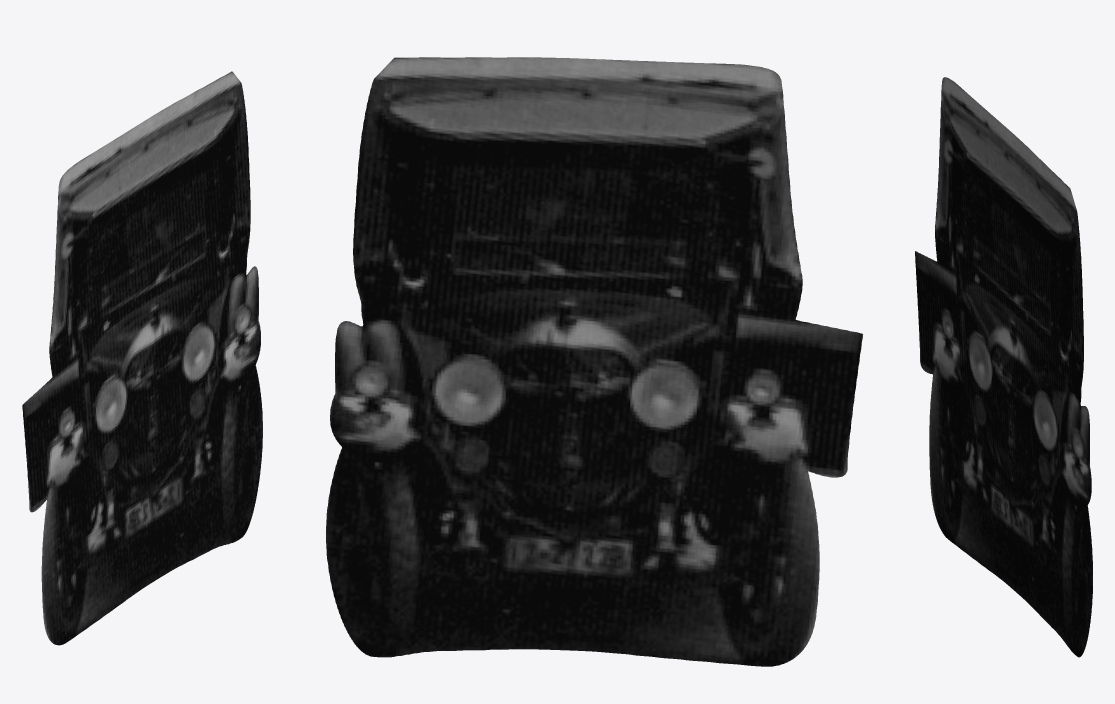
The model's file is Old_car.FBX.
3 renders of one model, left to right at view 1: azimuth 30°, elevation 25°; view 2: azimuth 150°, elevation 25°; view 3: azimuth 270°, elevation 25°, orthographic. The views are drawn at different scales.
Parts seen in each view (by area): view 1: car_AM; view 2: car_AM; view 3: car_AM.
Boxes of the visible parts, x1=… form: car_AM: x1=22, y1=71, x2=262, y2=645; car_AM: x1=326, y1=57, x2=863, y2=666; car_AM: x1=915, y1=77, x2=1092, y2=657.
Size of the model in its own units: 239 by 331 by 114.
Materials: 1 (1 with a texture image).
